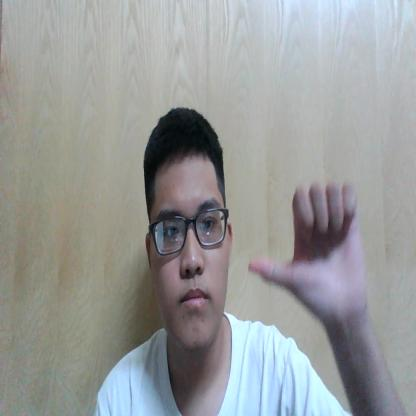right: (248, 182, 370, 315)
